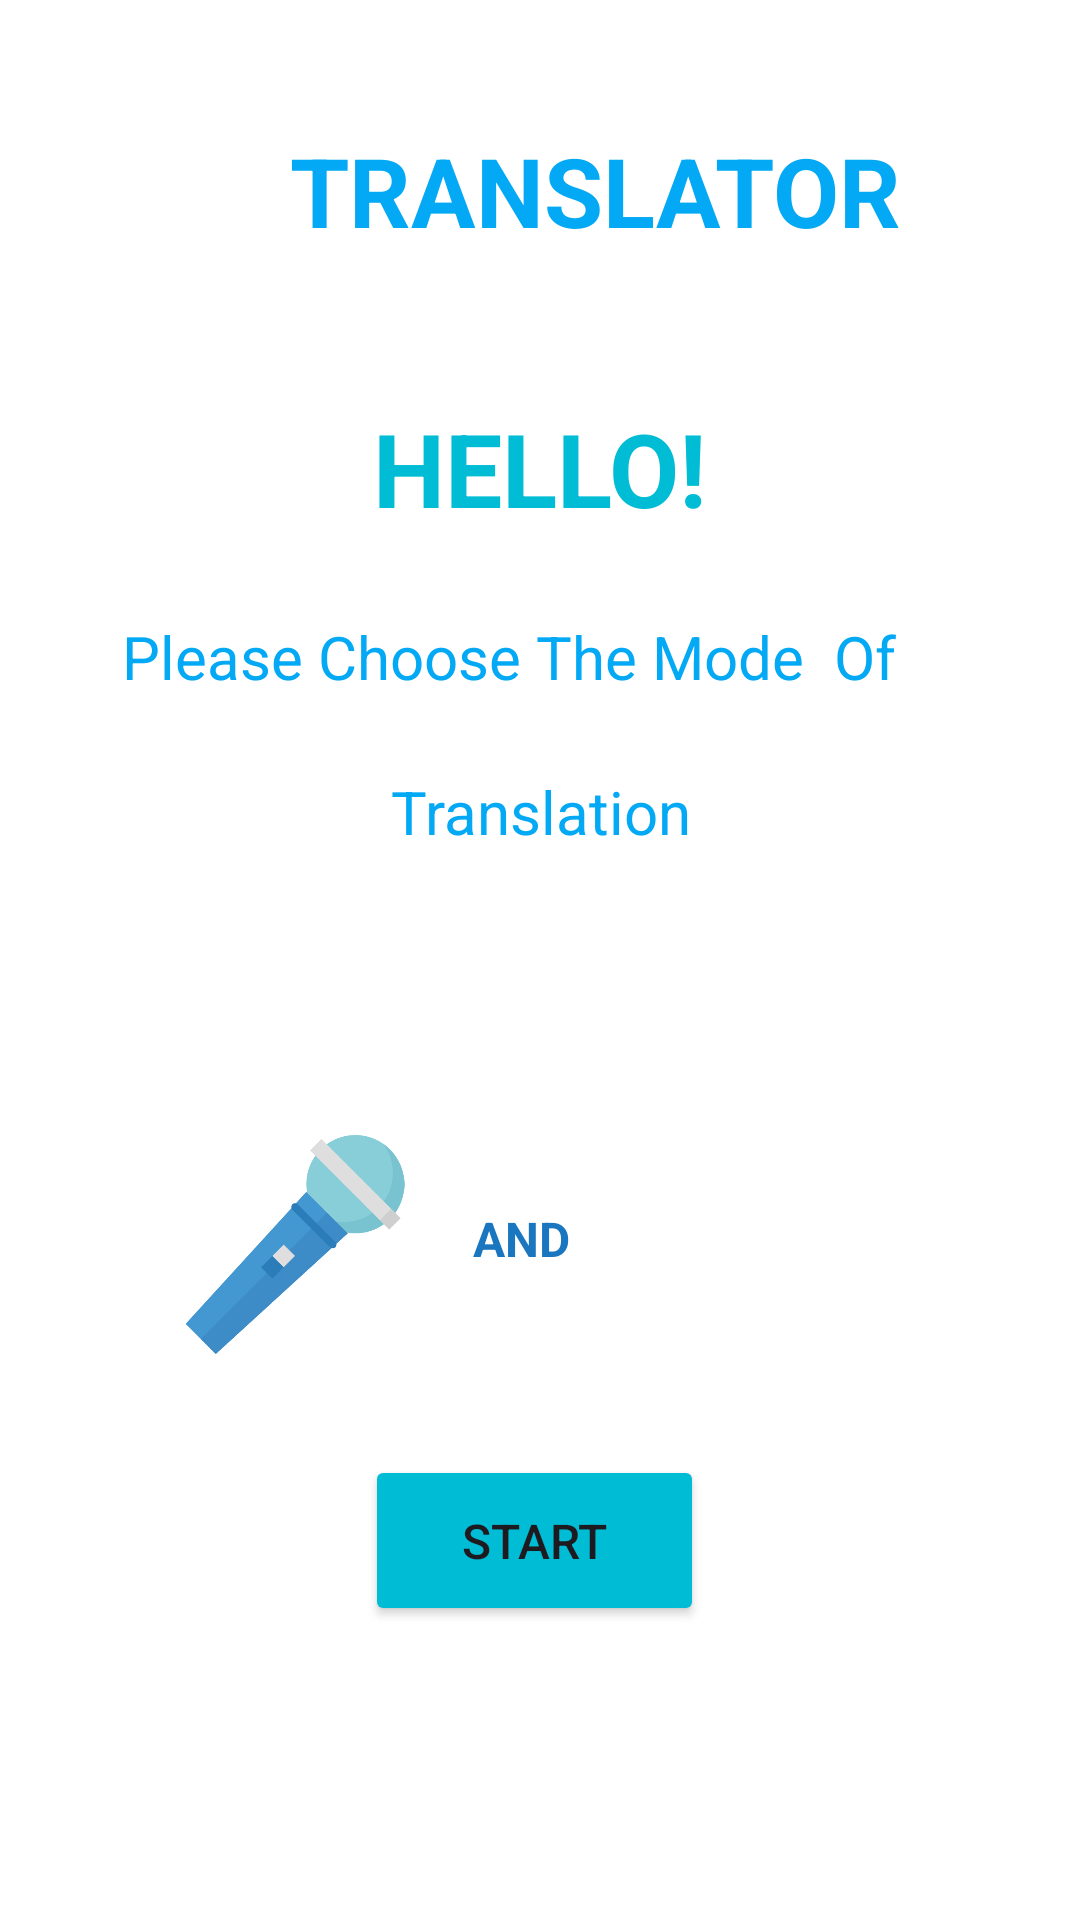

Screen size 1080*1920. Icon name, then its box in pixels as [x1, y1, x2, y2]:
microphone: [186, 1135, 405, 1354]
